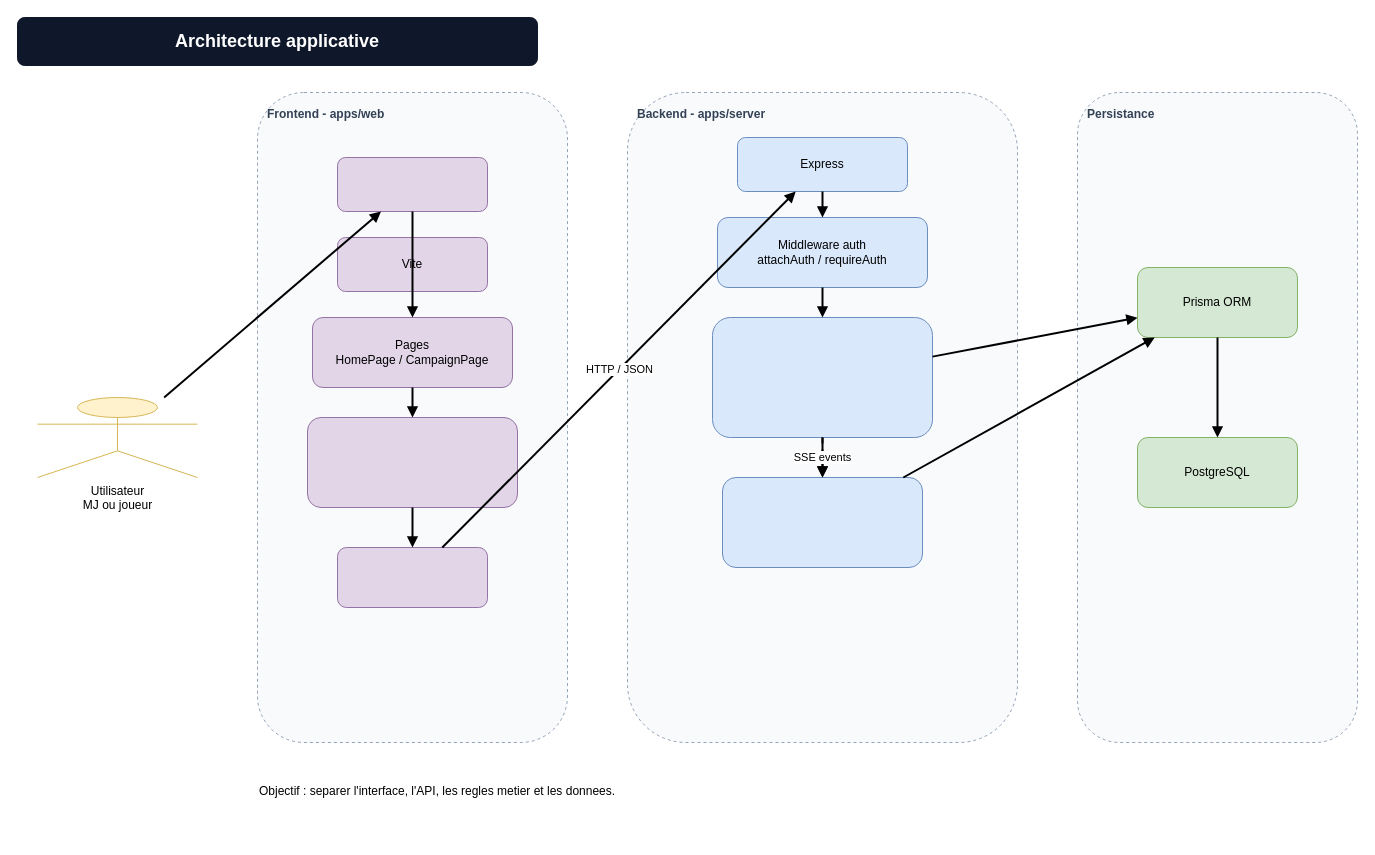
This 1375x855 diagram has some shape labels left out. The shapes that lost their labels are listed below. From the top down, each one's centre as x and y in pixels, then its label:
the point at 412,184: React
the point at 822,377: Routes /auth /campaigns /inventory /trades
the point at 412,462: Composants UI inventaire, personnage, scene, echanges
the point at 822,522: Lib metier session, password, stats, sseHub
the point at 412,577: Client API apiFetch
